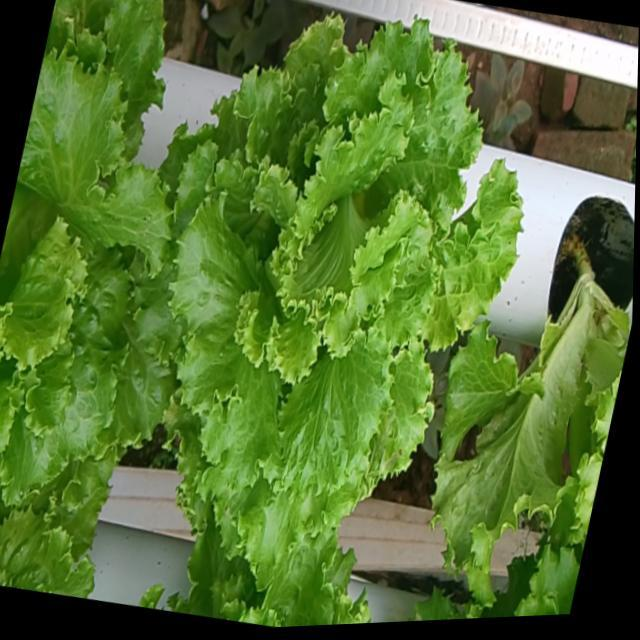Mature: (173, 0, 533, 552), (0, 24, 190, 492)
